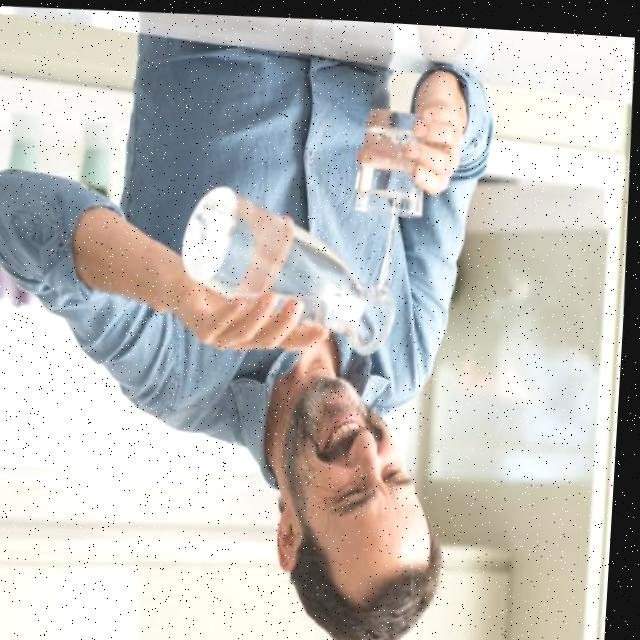eating-person: (0, 9, 516, 640)
